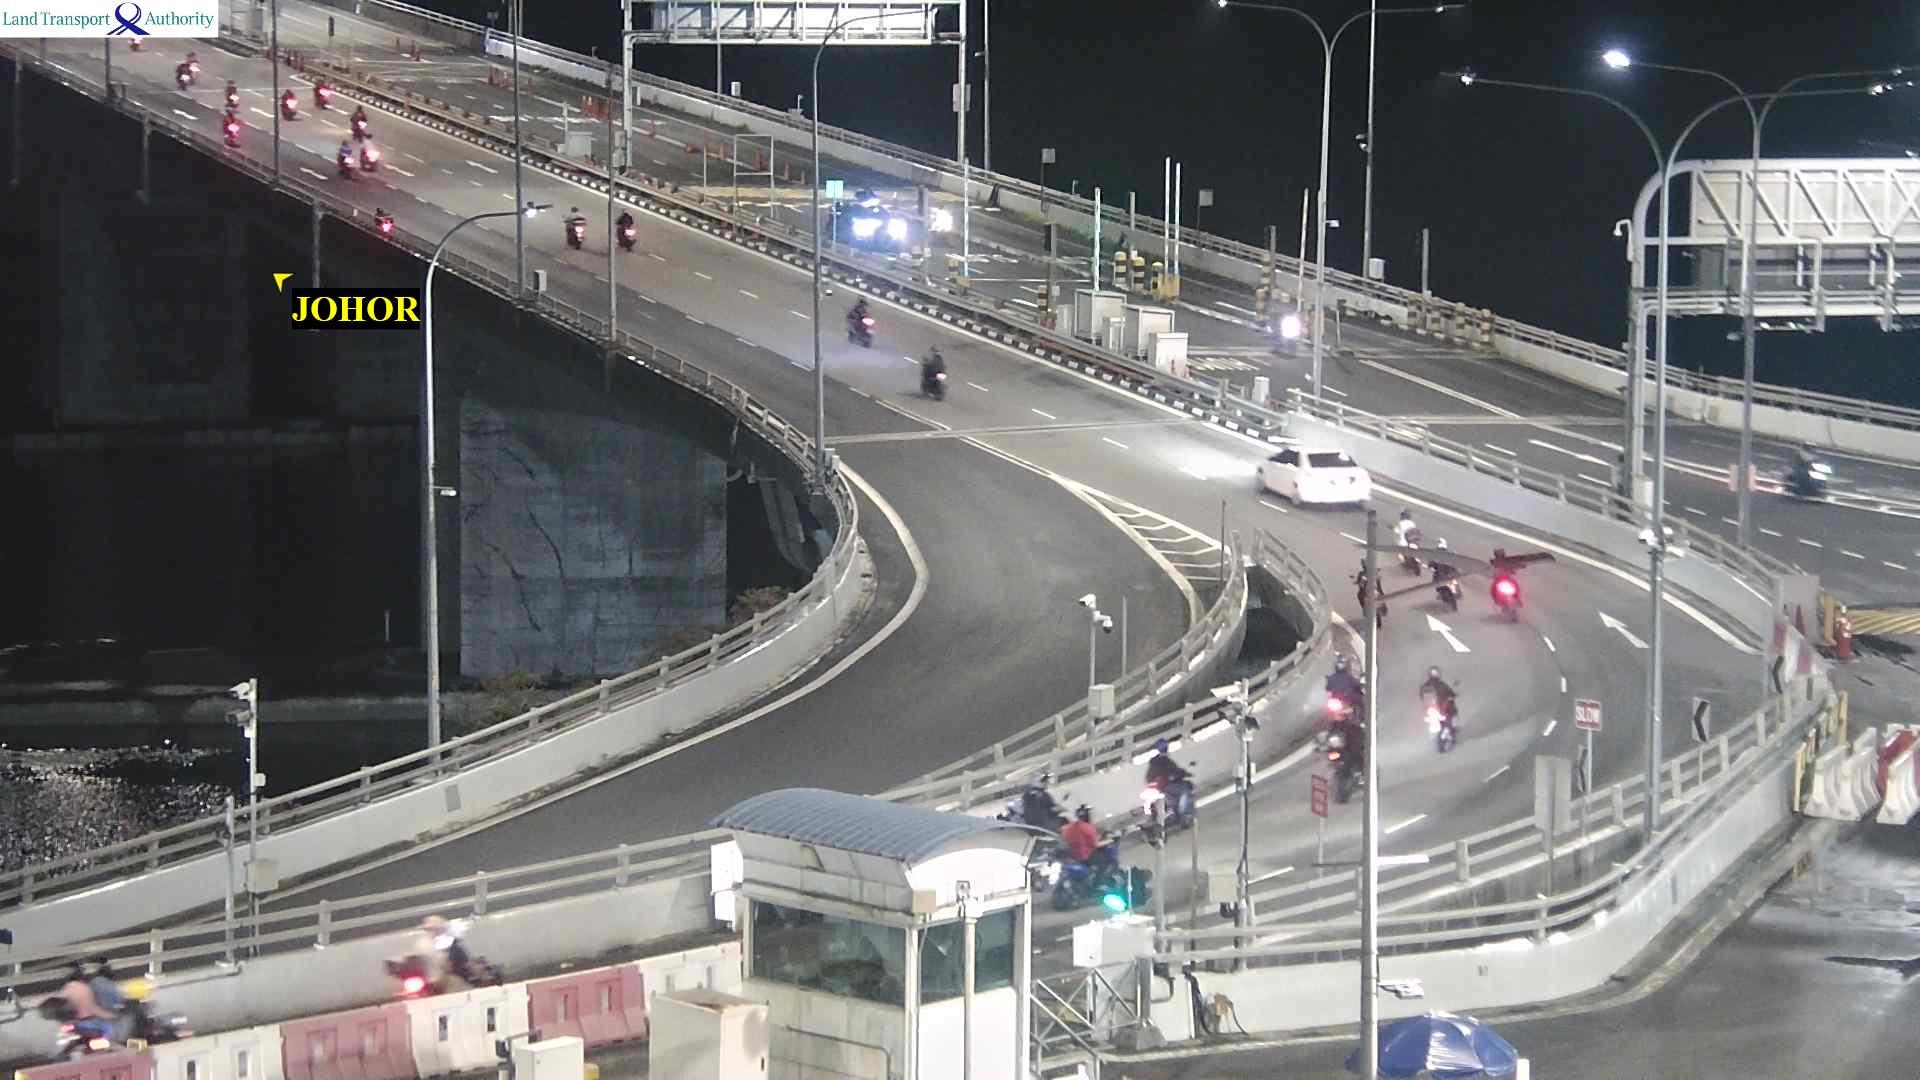vehicle-secondlink-johor: (40, 956, 183, 1050), (393, 916, 505, 998), (1039, 800, 1122, 894), (1254, 451, 1371, 510), (1142, 744, 1195, 827), (1325, 723, 1367, 794), (1423, 687, 1456, 757), (1327, 658, 1364, 715), (338, 133, 380, 178), (1348, 567, 1378, 615), (1491, 574, 1520, 618), (916, 349, 944, 396), (848, 301, 876, 344), (1404, 508, 1427, 555), (1393, 512, 1416, 554), (179, 55, 203, 87), (563, 202, 583, 239), (617, 216, 638, 249), (224, 78, 241, 105), (357, 113, 378, 136), (315, 78, 332, 104)
vehicle-secondlink-singapore: (835, 191, 907, 255), (1780, 448, 1833, 493)
